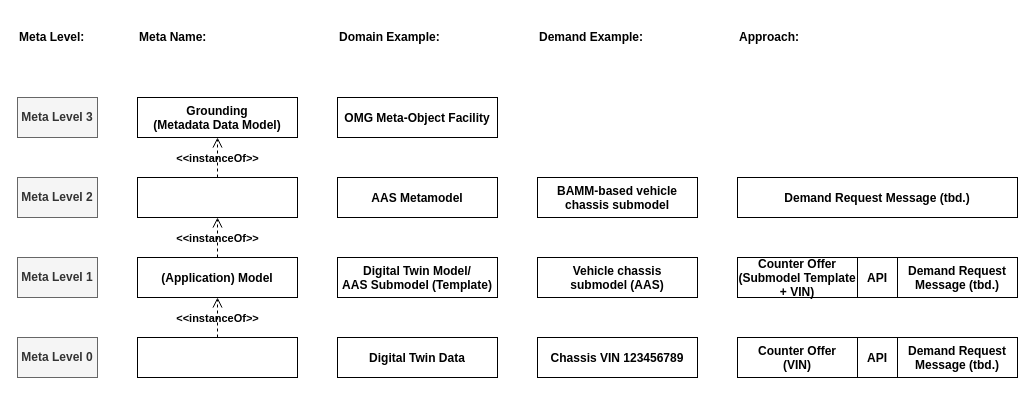
This 1035x395 diagram has some shape labels left out. Here are the shapes that lost their labels. From the top down, the centre of each, then its label:
At point 217,197: "Meta-Model".
At point 217,357: "Data".
